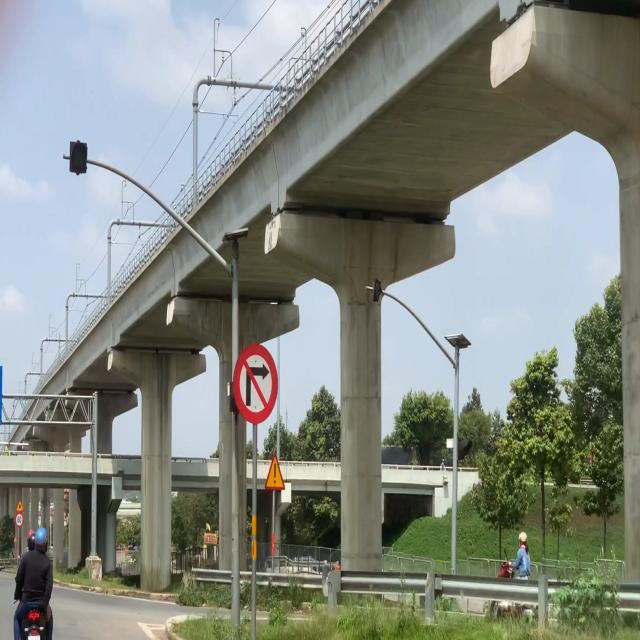Cam re phai: (232, 343, 279, 426)
Giao voi duong khong uu tien: (16, 499, 24, 512)
Nguy hiem: (264, 452, 286, 492)
Toc do toi da: (15, 512, 24, 528)
